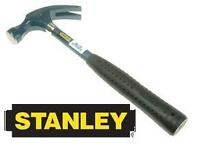hammer: (7, 1, 189, 136)
